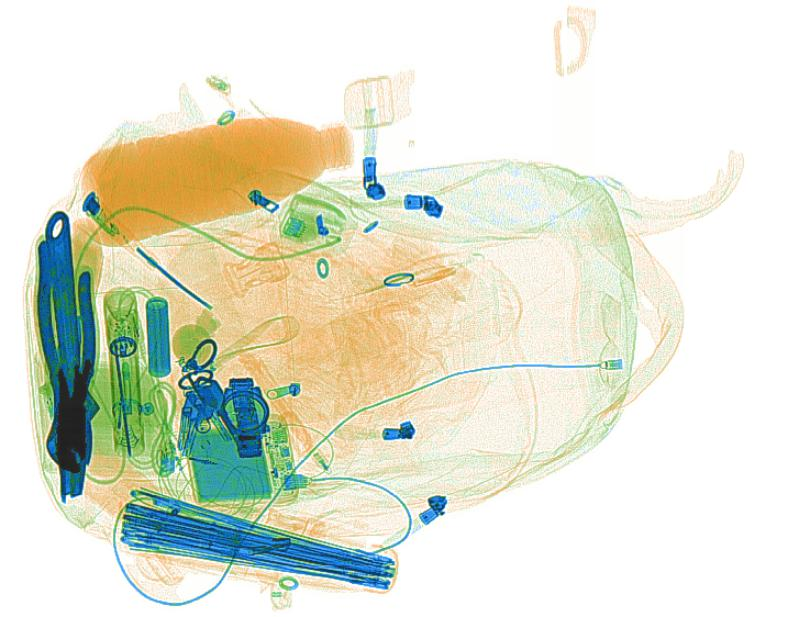battery: (143, 294, 173, 379)
